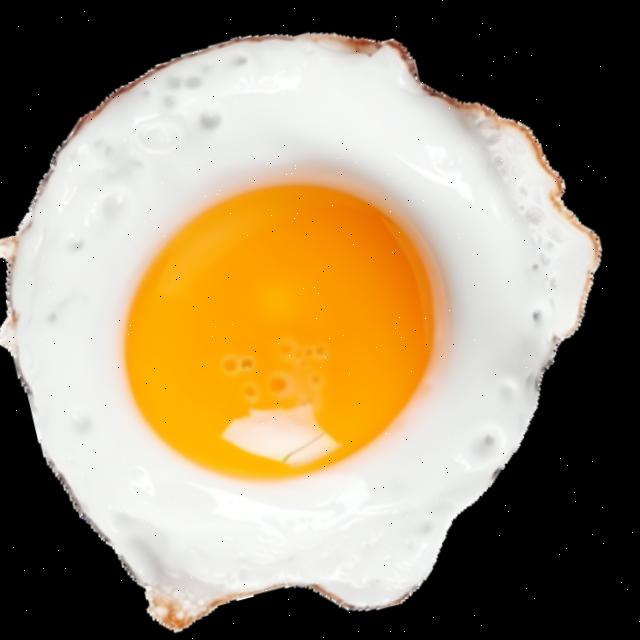Egg: (0, 31, 601, 628)
